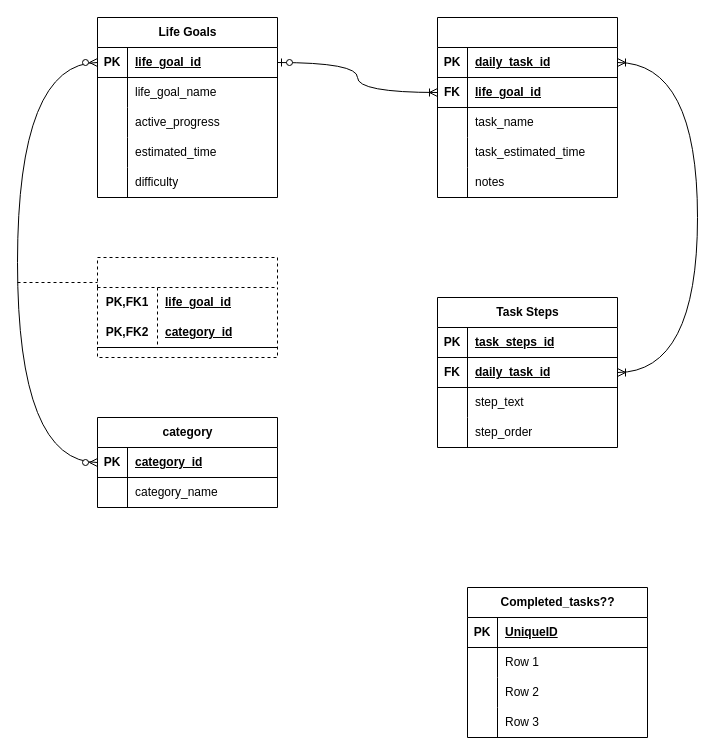
This 715x755 diagram has some shape labels left out. The box of each missing label's shape, as (x1, y1, x2, y2) in pixels:
Daily Tasks: (436, 16, 618, 198)
life_goal_category: (96, 256, 278, 358)
